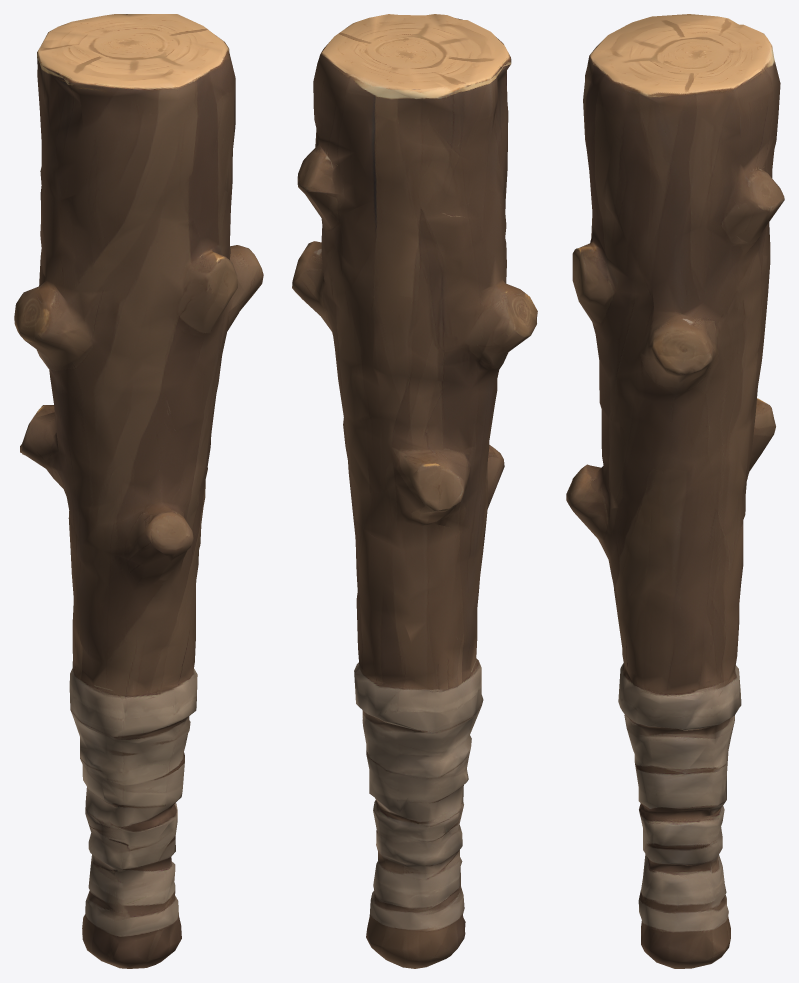
File: Meshy_AI_Knotted_Timber_Staff_0520083915_texture.fbx
3 views of the same model, side by side, from view 1: azimuth 30°, elevation 25°; view 2: azimuth 150°, elevation 25°; view 3: azimuth 270°, elevation 25° (orthographic).
Visible parts, largest first — view 1: Mesh_0; view 2: Mesh_0; view 3: Mesh_0.
Part boxes in pixels (x1=…): Mesh_0: x1=14, y1=14, x2=263, y2=968; Mesh_0: x1=292, y1=14, x2=537, y2=968; Mesh_0: x1=566, y1=14, x2=784, y2=968.
Size of the model in its own units: 50.96 by 192 by 41.52.
Materials: 1 (1 with a texture image).
